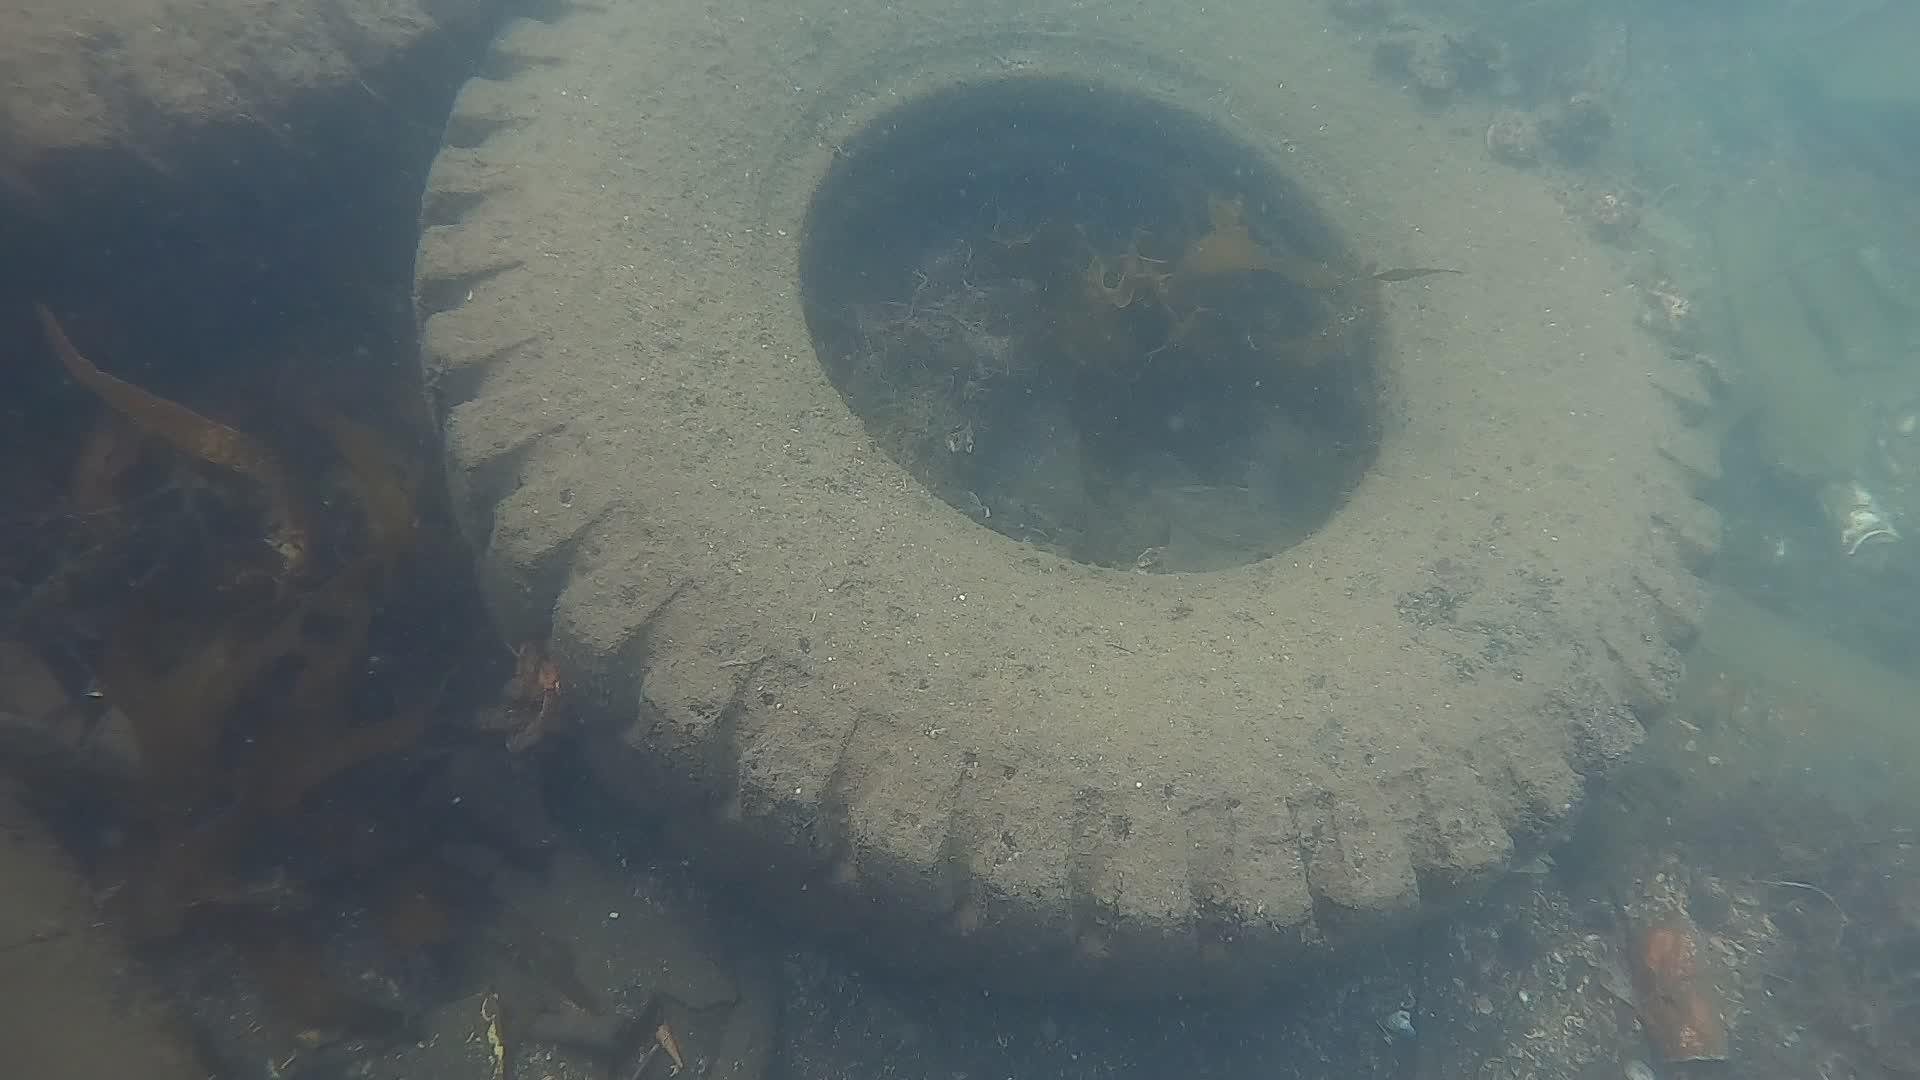tire: (415, 0, 1731, 998)
